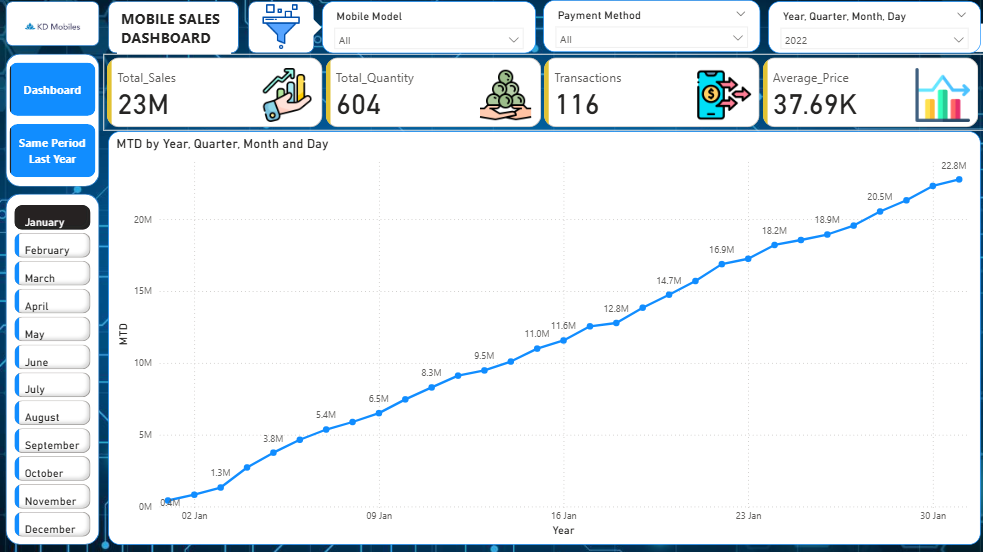

Layout of this report page (visuals, bound fields, positions):
{"tool":"powerbi","page":{"name":"MTD Report","canvas":[1280,720],"ordinal":1},"visuals":[{"type":"shape","box":[11,8.2,120.8,57.6],"z":0},{"type":"image","box":[11,0,120.8,75.5],"z":1000},{"type":"shape","box":[11,75.5,120.8,171.5],"z":2000},{"type":"cardVisual","fields":{"Data":["Sales_Data.Total_Sales","Sales_Data.Total_Quantity","Sales_Data.Transactions","Sales_Data.Average_Price"]},"box":[137.1,75.7,1137.1,100],"z":3000},{"type":"slicer","fields":{"Values":["Sales_Data.Mobile Model"]},"box":[419.9,8.2,275.8,67.2],"z":4000},{"type":"slicer","fields":{"Values":["Sales_Data.Payment Method"]},"box":[705.3,6.9,279.9,67.2],"z":5000},{"type":"slicer","fields":{"Values":["Custom_Calender.Date.Variation.Date Hierarchy.Year","Custom_Calender.Date.Variation.Date Hierarchy.Quarter","Custom_Calender.Date.Variation.Date Hierarchy.Month","Custom_Calender.Date.Variation.Date Hierarchy.Day"]},"box":[994.9,8.2,274.4,67.2],"z":6000},{"type":"shape","box":[323.8,8.2,85.1,67.2],"z":7000},{"type":"image","box":[323.8,6.9,85.1,68.6],"z":8000},{"type":"shape","box":[391.1,27.4,28.8,28.8],"z":9000},{"type":"shape","box":[142.9,8.6,168.6,67.1],"z":10000},{"type":"textbox","box":[154.3,12.9,147.1,62.9],"z":11000},{"type":"lineChart","fields":{"Category":["Custom_Calender.Date.Variation.Date Hierarchy.Year","Custom_Calender.Date.Variation.Date Hierarchy.Quarter","Custom_Calender.Date.Variation.Date Hierarchy.Month","Custom_Calender.Date.Variation.Date Hierarchy.Day"],"Y":["Sales_Data.MTD"]},"box":[143.5,175.8,1125.8,533.9],"z":12000},{"type":"shape","box":[11,256.6,120.8,452.8],"z":13000},{"type":"advancedSlicerVisual","fields":{"Values":["Custom_Calender.Date.Variation.Date Hierarchy.Month"]},"box":[17.8,266.2,108.4,443.2],"z":14000},{"type":"pageNavigator","box":[16.1,87.1,111.3,148.4],"z":14001}]}

Visuals, with their boxes in screenshot pixels (x1, y1, x2, y2), scaled from the page's 1280x720 canvas onto the 983x552 screenshot:
shape: detection(8, 6, 101, 50)
image: detection(8, 0, 101, 58)
shape: detection(8, 58, 101, 189)
cardVisual - Sales_Data.Total_Sales x Sales_Data.Total_Quantity: detection(105, 58, 979, 135)
slicer - Sales_Data.Mobile Model: detection(322, 6, 534, 58)
slicer - Sales_Data.Payment Method: detection(542, 5, 757, 57)
slicer - Custom_Calender.Date.Variation.Date Hierarchy.Year x Custom_Calender.Date.Variation.Date Hierarchy.Quarter: detection(764, 6, 975, 58)
shape: detection(249, 6, 314, 58)
image: detection(249, 5, 314, 58)
shape: detection(300, 21, 322, 43)
shape: detection(110, 7, 239, 58)
textbox: detection(118, 10, 231, 58)
lineChart - Custom_Calender.Date.Variation.Date Hierarchy.Year x Custom_Calender.Date.Variation.Date Hierarchy.Quarter: detection(110, 135, 975, 544)
shape: detection(8, 197, 101, 544)
advancedSlicerVisual - Custom_Calender.Date.Variation.Date Hierarchy.Month: detection(14, 204, 97, 544)
pageNavigator: detection(12, 67, 98, 181)
